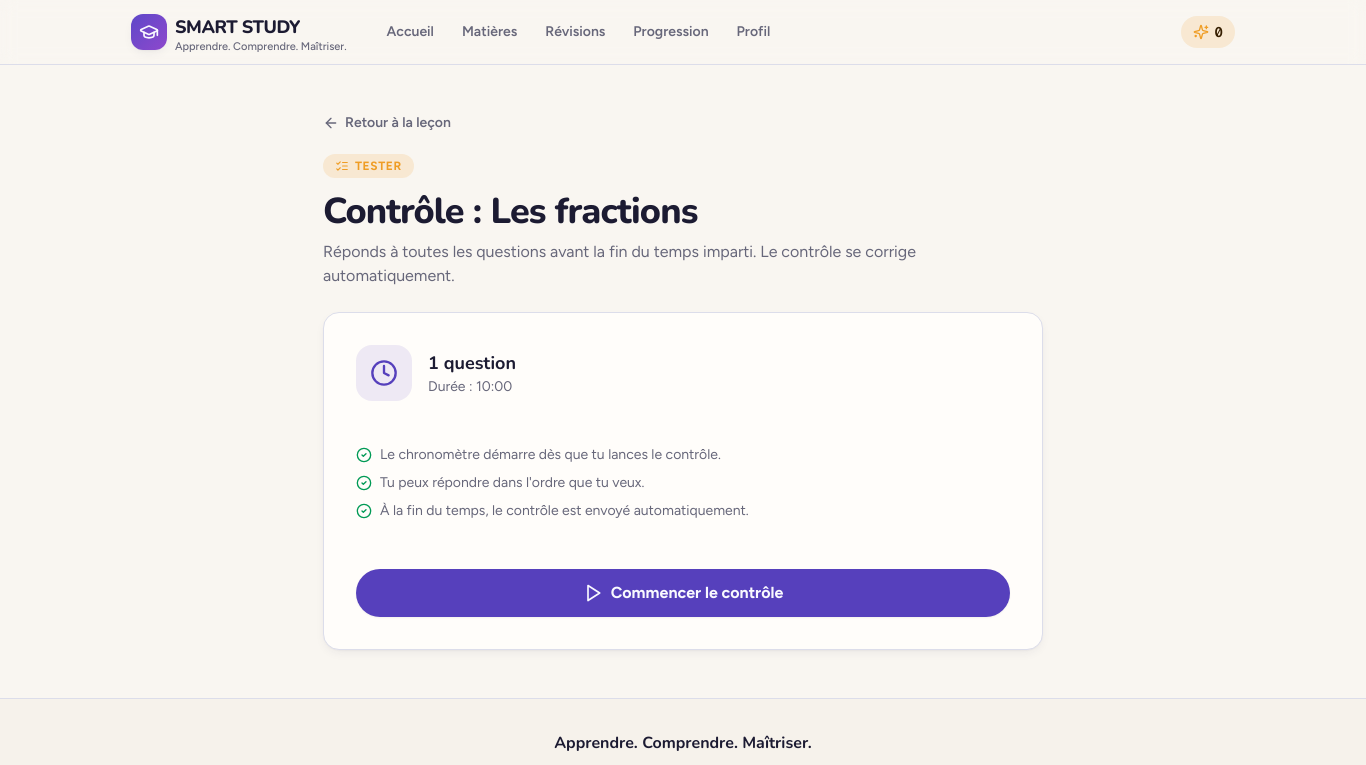
Test: ExamPage › runs a timed exam and shows the final score with a detailed correction
Expected: the element with test id "exam.intro_panel" is shown, 323,312 -> 1043,650
Click the button with test id "exam.start_button".
click(683, 593)  # box 356,569 -> 1010,617
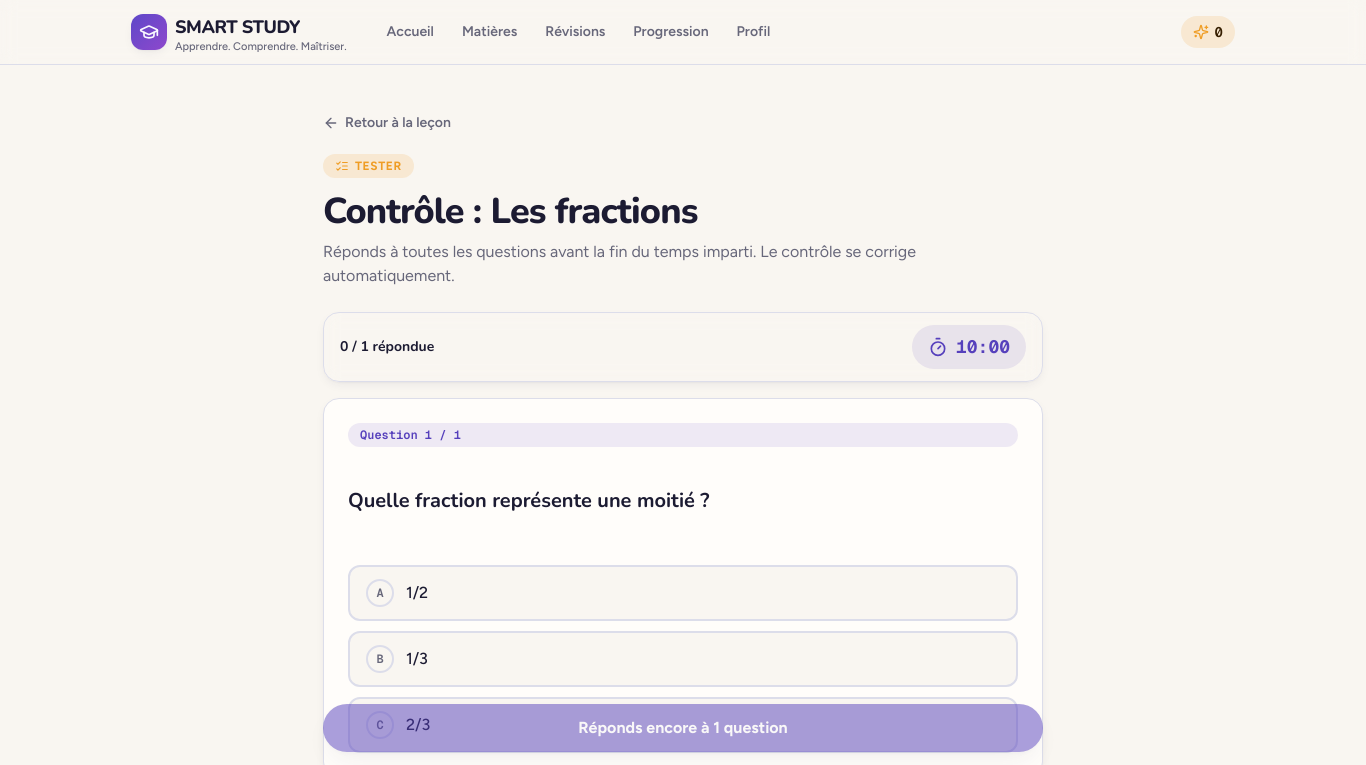
Expected: the element with test id "exam.timer" is shown, 912,325 -> 1026,369
Note: Answer the single question, then submit.
Click the radio button with test id "exam.choice.1.1".
click(380, 593)  # box 348,565 -> 1018,621
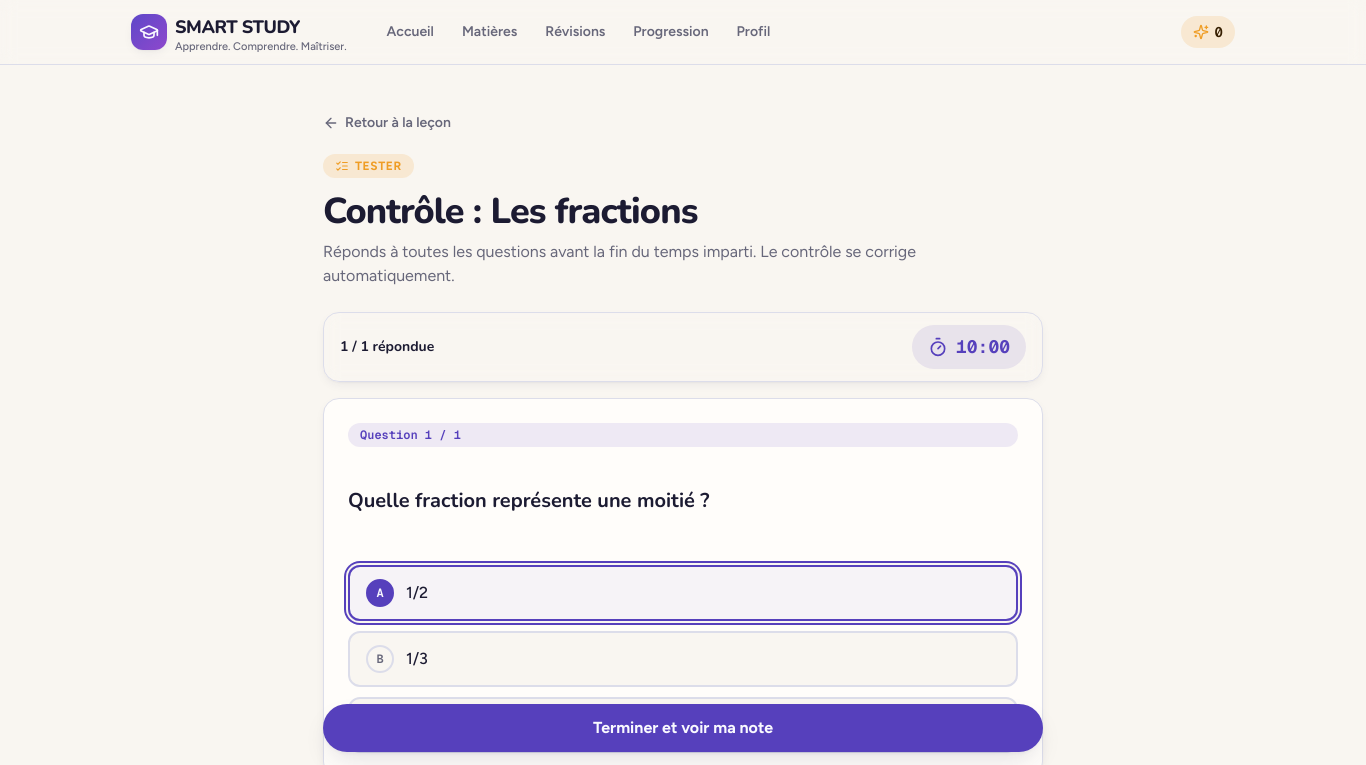
Click the button with test id "exam.submit_button".
click(683, 728)  # box 323,704 -> 1043,752
(page scrolled)
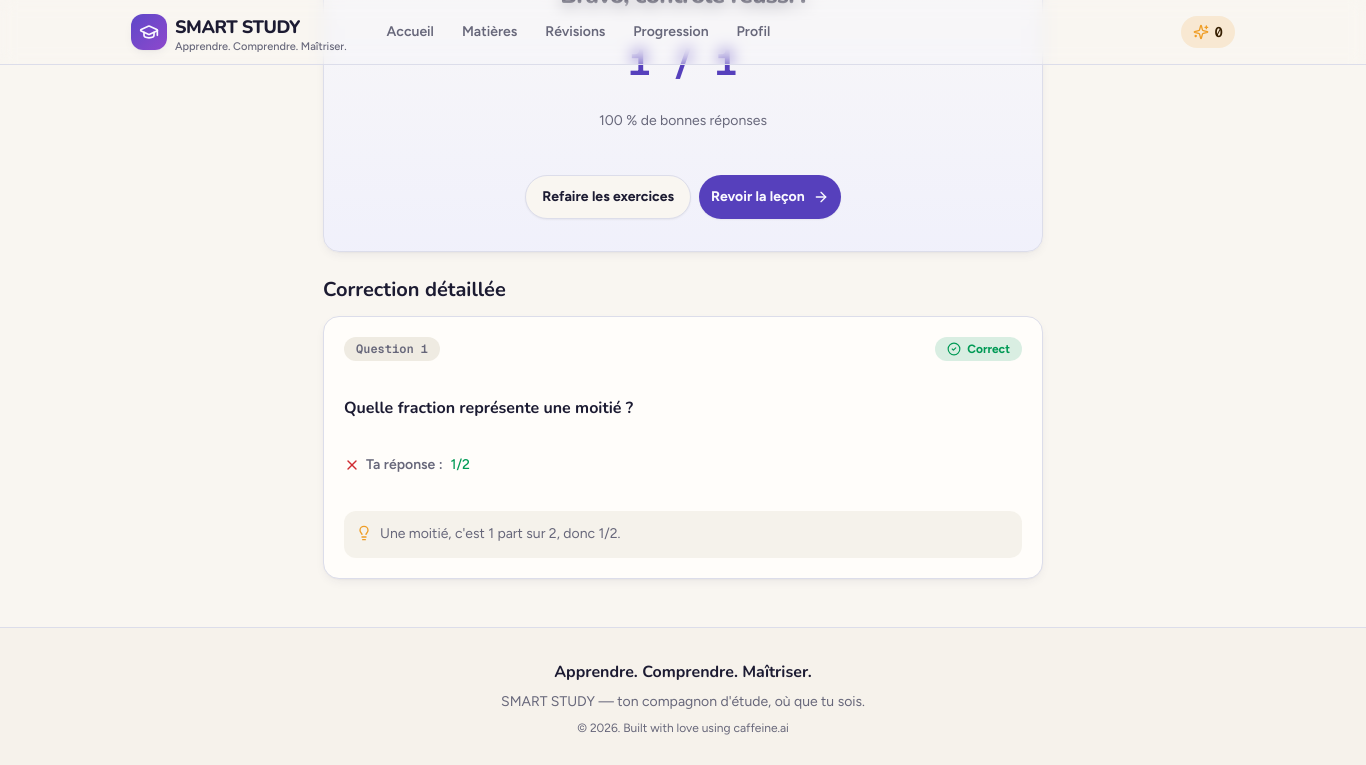
Now the text with test id "exam.final_score" reads "1 / 1", box 629,42 -> 737,83
Now the text "Correct" is shown, box 935,337 -> 1022,361
Now the text "Une moitié, c'est 1 part sur 2, donc 1/2." is shown, box 380,523 -> 620,546
